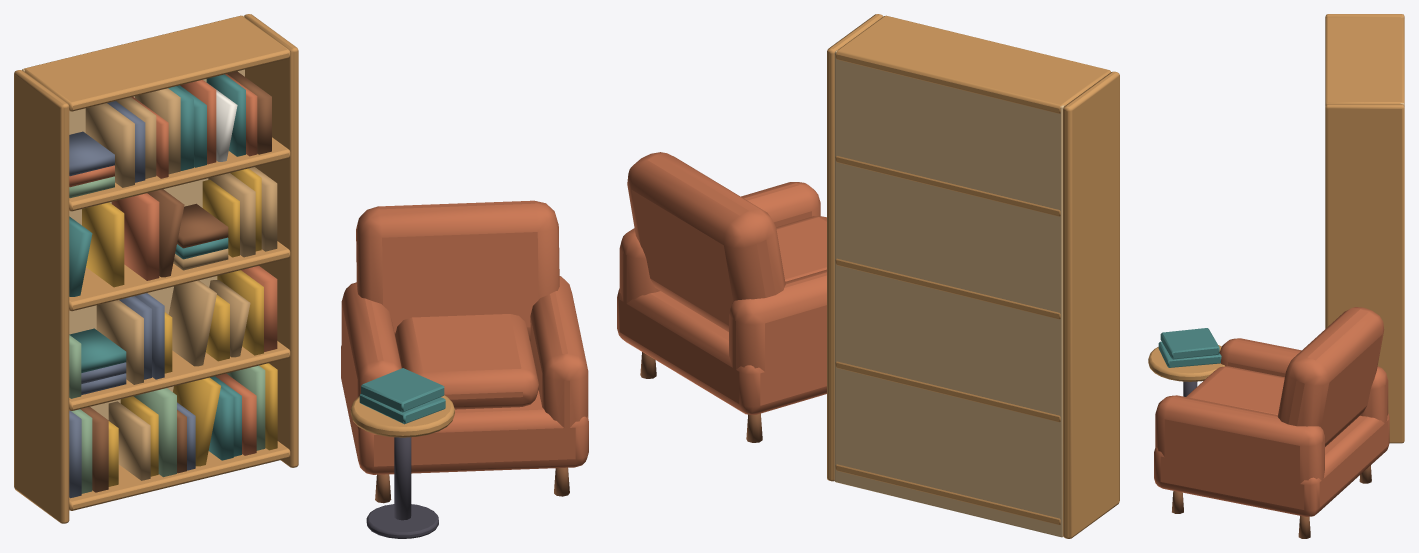
Rendered from library_l2.glb.
3 views of the same model, side by side, from view 1: azimuth 30°, elevation 25°; view 2: azimuth 150°, elevation 25°; view 3: azimuth 270°, elevation 25° (orthographic). The views are drawn at different scales.
Visible parts, largest first — view 1: library_l2; view 2: library_l2; view 3: library_l2.
Boxes of the visible parts, x1,y1,x2,y2 form: library_l2: (14,14,588,538); library_l2: (617,14,1119,538); library_l2: (1148,14,1404,538).
Size of the model in its own units: 1.99 by 1.6 by 1.1.
